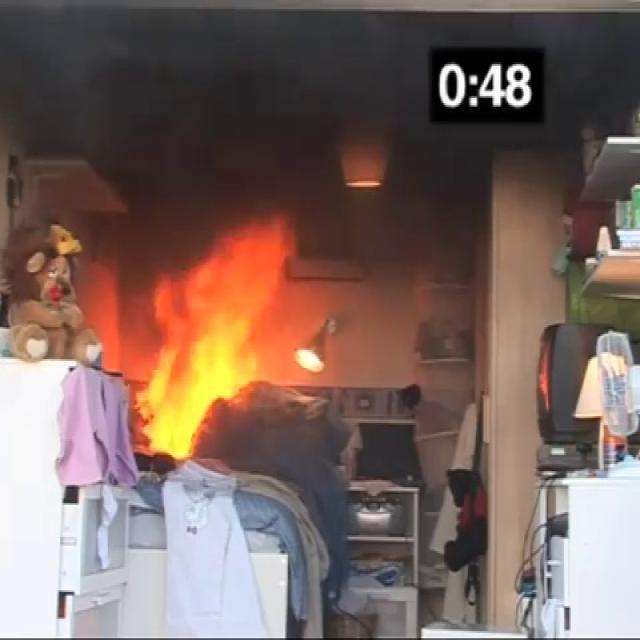Fire: (141, 262, 265, 451), (208, 212, 292, 316)
Smoke: (9, 6, 324, 204), (304, 177, 496, 286), (544, 7, 640, 120)
